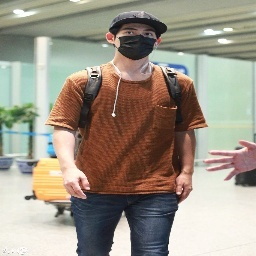correctlyWear: (105, 25, 161, 59)
